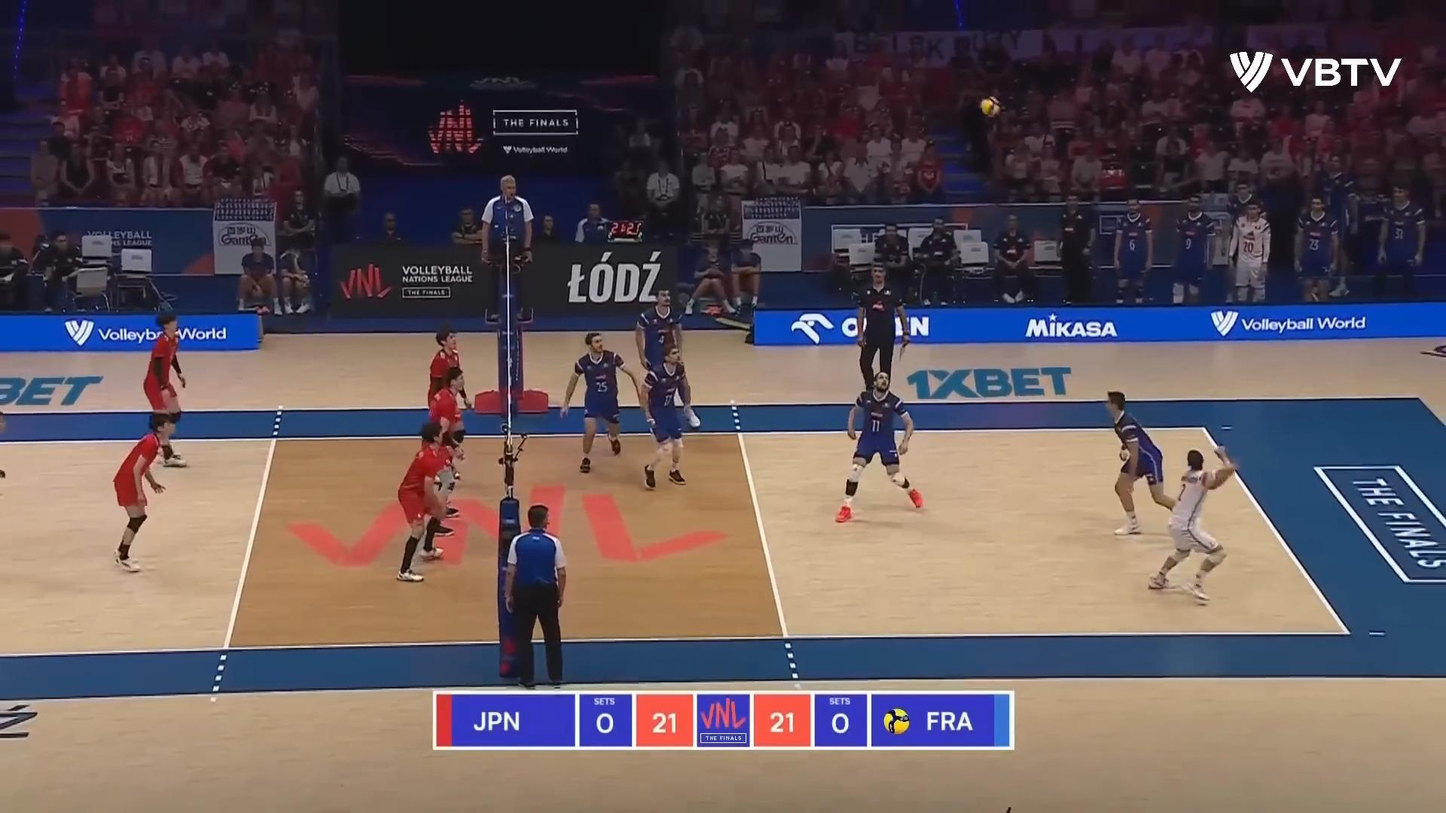ball: (981, 98, 1000, 117)
